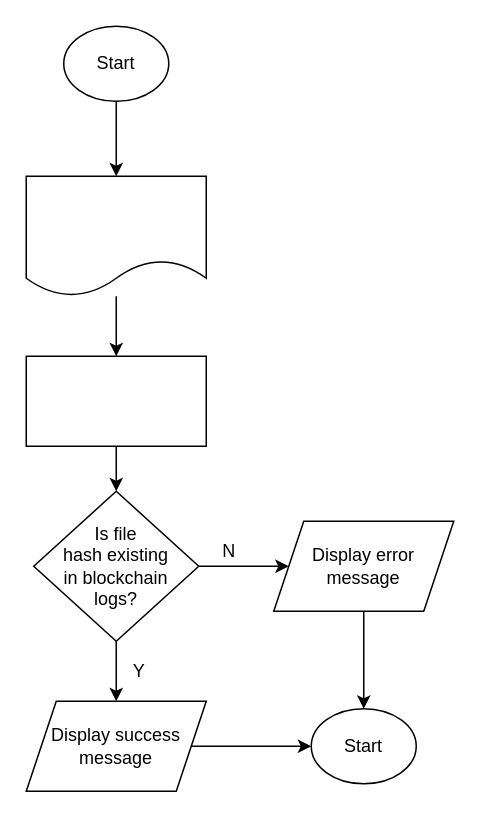
Some shapes in this 480 by 818 pixel diagram are drawn without their labels. Here are the shapes that lost their labels. From the top down, the centre of each, then its label:
At point (115, 235): "Vaccine certificate file".
At point (115, 400): "Generate file hash from file".
